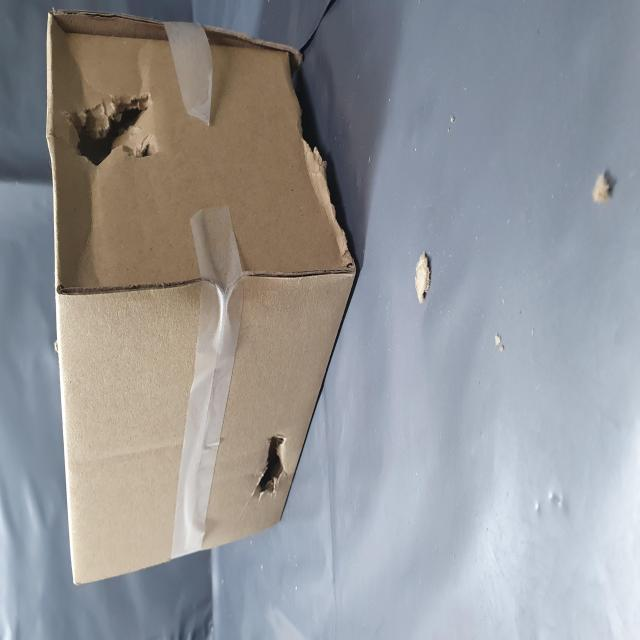damaged: (255, 113, 312, 280), (74, 452, 121, 522)
